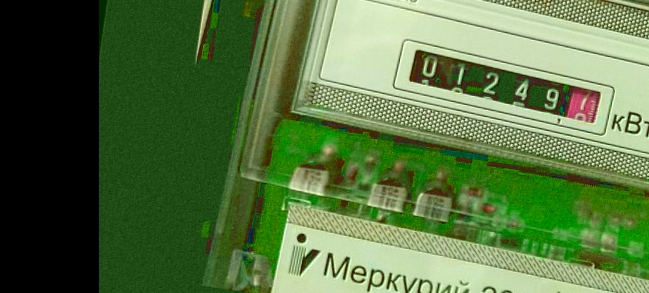0: (420, 51, 441, 79)
1: (452, 59, 469, 86)
2: (481, 69, 501, 97)
4: (513, 75, 533, 102)
7: (576, 85, 595, 113)
9: (541, 84, 562, 112)
screen: (389, 35, 621, 140)
